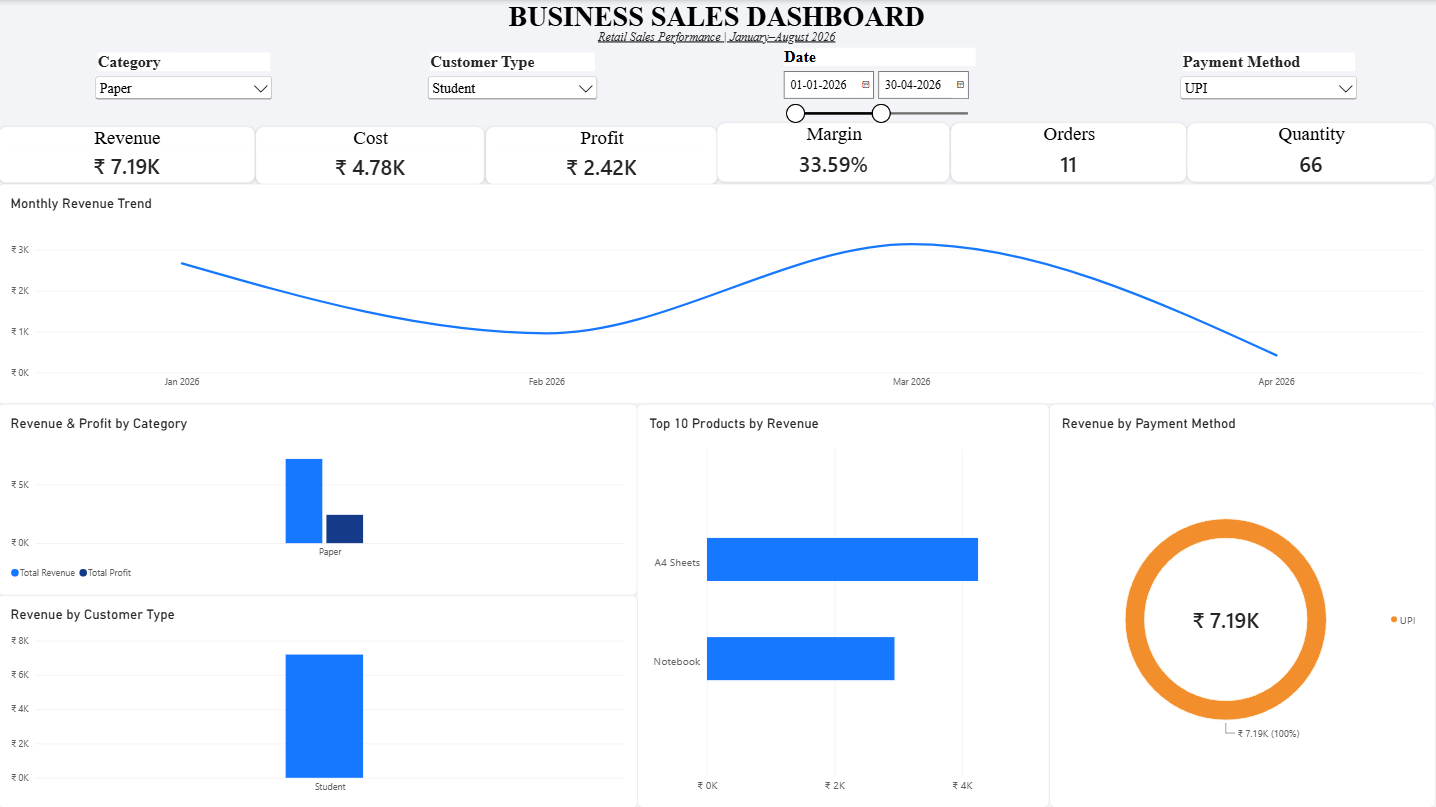

What the dashboard file says about the page in this screenshot:
{"tool":"powerbi","page":{"name":"Page 1","canvas":[1920,1080],"ordinal":0},"visuals":[{"type":"cardVisual","title":"Revenue","fields":{"Data":["sales_data.Total Revenue"]},"box":[0,168,344,76],"z":0},{"type":"cardVisual","title":"Cost","fields":{"Data":["sales_data.Total Cost"]},"box":[344,168,306,78],"z":1000},{"type":"cardVisual","title":"Profit","fields":{"Data":["sales_data.Total Profit"]},"box":[652,168,310,78],"z":2000},{"type":"cardVisual","title":"Margin","fields":{"Data":["sales_data.Profit Margin"]},"box":[960,164,312,80],"z":3000},{"type":"cardVisual","title":"Orders","fields":{"Data":["sales_data.Total Orders"]},"box":[1272,164,316,80],"z":4000},{"type":"cardVisual","title":"Quantity","fields":{"Data":["sales_data.Total Quantity"]},"box":[1588,164,332,80],"z":5000},{"type":"lineChart","title":"Monthly Revenue Trend","fields":{"Category":["sales_data.Month Year"],"Y":["sales_data.Total Revenue"]},"box":[0,246,1920,294],"z":6000},{"type":"clusteredColumnChart","title":"Revenue & Profit by Category","fields":{"Category":["sales_data.Category"],"Y":["sales_data.Total Revenue","sales_data.Total Profit"]},"box":[0,540,854,256],"z":7000},{"type":"clusteredBarChart","title":"Top 10 Products by Revenue","fields":{"Category":["sales_data.Product"],"Y":["sales_data.Total Revenue"]},"box":[854,540,550,398],"z":8000},{"type":"clusteredColumnChart","title":"Revenue by Customer Type","fields":{"Category":["sales_data.Customer_Type"],"Y":["sales_data.Total Revenue"]},"box":[0,794,854,286],"z":9000},{"type":"donutChart","title":"Revenue by Payment Method","fields":{"Category":["sales_data.Payment_Method"],"Y":["sales_data.Total Revenue"]},"box":[1404,540,516,398],"z":10000},{"type":"textbox","box":[0,0,1920,92],"z":11000},{"type":"slicer","fields":{"Values":["sales_data.Category"]},"box":[126,70,246,94],"z":12000},{"type":"slicer","fields":{"Values":["sales_data.Customer_Type"]},"box":[570,70,236,98],"z":13000},{"type":"slicer","fields":{"Values":["sales_data.Payment_Method"]},"box":[1574,70,246,100],"z":14000},{"type":"slicer","fields":{"Values":["sales_data.Date"]},"box":[1042,64,272,140],"z":15000},{"type":"cardVisual","fields":{"Data":["sales_data.Best Revenue Month","sales_data.Top Revenue Category","sales_data.Top Revenue Product","sales_data.Top Customer Type","sales_data.Top Payment Method"]},"box":[854,986,1066,94],"z":16000},{"type":"textbox","box":[854,938,1066,62],"z":17000}]}

Visuals, with their boxes in screenshot pixels (x1, y1, x2, y2), scaled from the page's 1920x1080 canvas onto the 1436x807 screenshot:
"Revenue" cardVisual: locate(0, 126, 257, 182)
"Cost" cardVisual: locate(257, 126, 486, 184)
"Profit" cardVisual: locate(488, 126, 719, 184)
"Margin" cardVisual: locate(718, 123, 951, 182)
"Orders" cardVisual: locate(951, 123, 1188, 182)
"Quantity" cardVisual: locate(1188, 123, 1435, 182)
"Monthly Revenue Trend" lineChart: locate(0, 184, 1435, 404)
"Revenue & Profit by Category" clusteredColumnChart: locate(0, 404, 639, 595)
"Top 10 Products by Revenue" clusteredBarChart: locate(639, 404, 1050, 701)
"Revenue by Customer Type" clusteredColumnChart: locate(0, 593, 639, 806)
"Revenue by Payment Method" donutChart: locate(1050, 404, 1435, 701)
textbox: locate(0, 0, 1435, 69)
slicer - sales_data.Category: locate(94, 52, 278, 123)
slicer - sales_data.Customer_Type: locate(426, 52, 603, 126)
slicer - sales_data.Payment_Method: locate(1177, 52, 1361, 127)
slicer - sales_data.Date: locate(779, 48, 983, 152)
cardVisual - sales_data.Best Revenue Month x sales_data.Top Revenue Category: locate(639, 737, 1435, 806)
textbox: locate(639, 701, 1435, 747)
